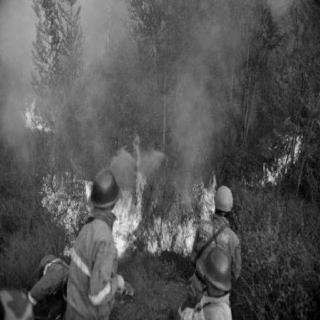other: (26, 241, 68, 317)
